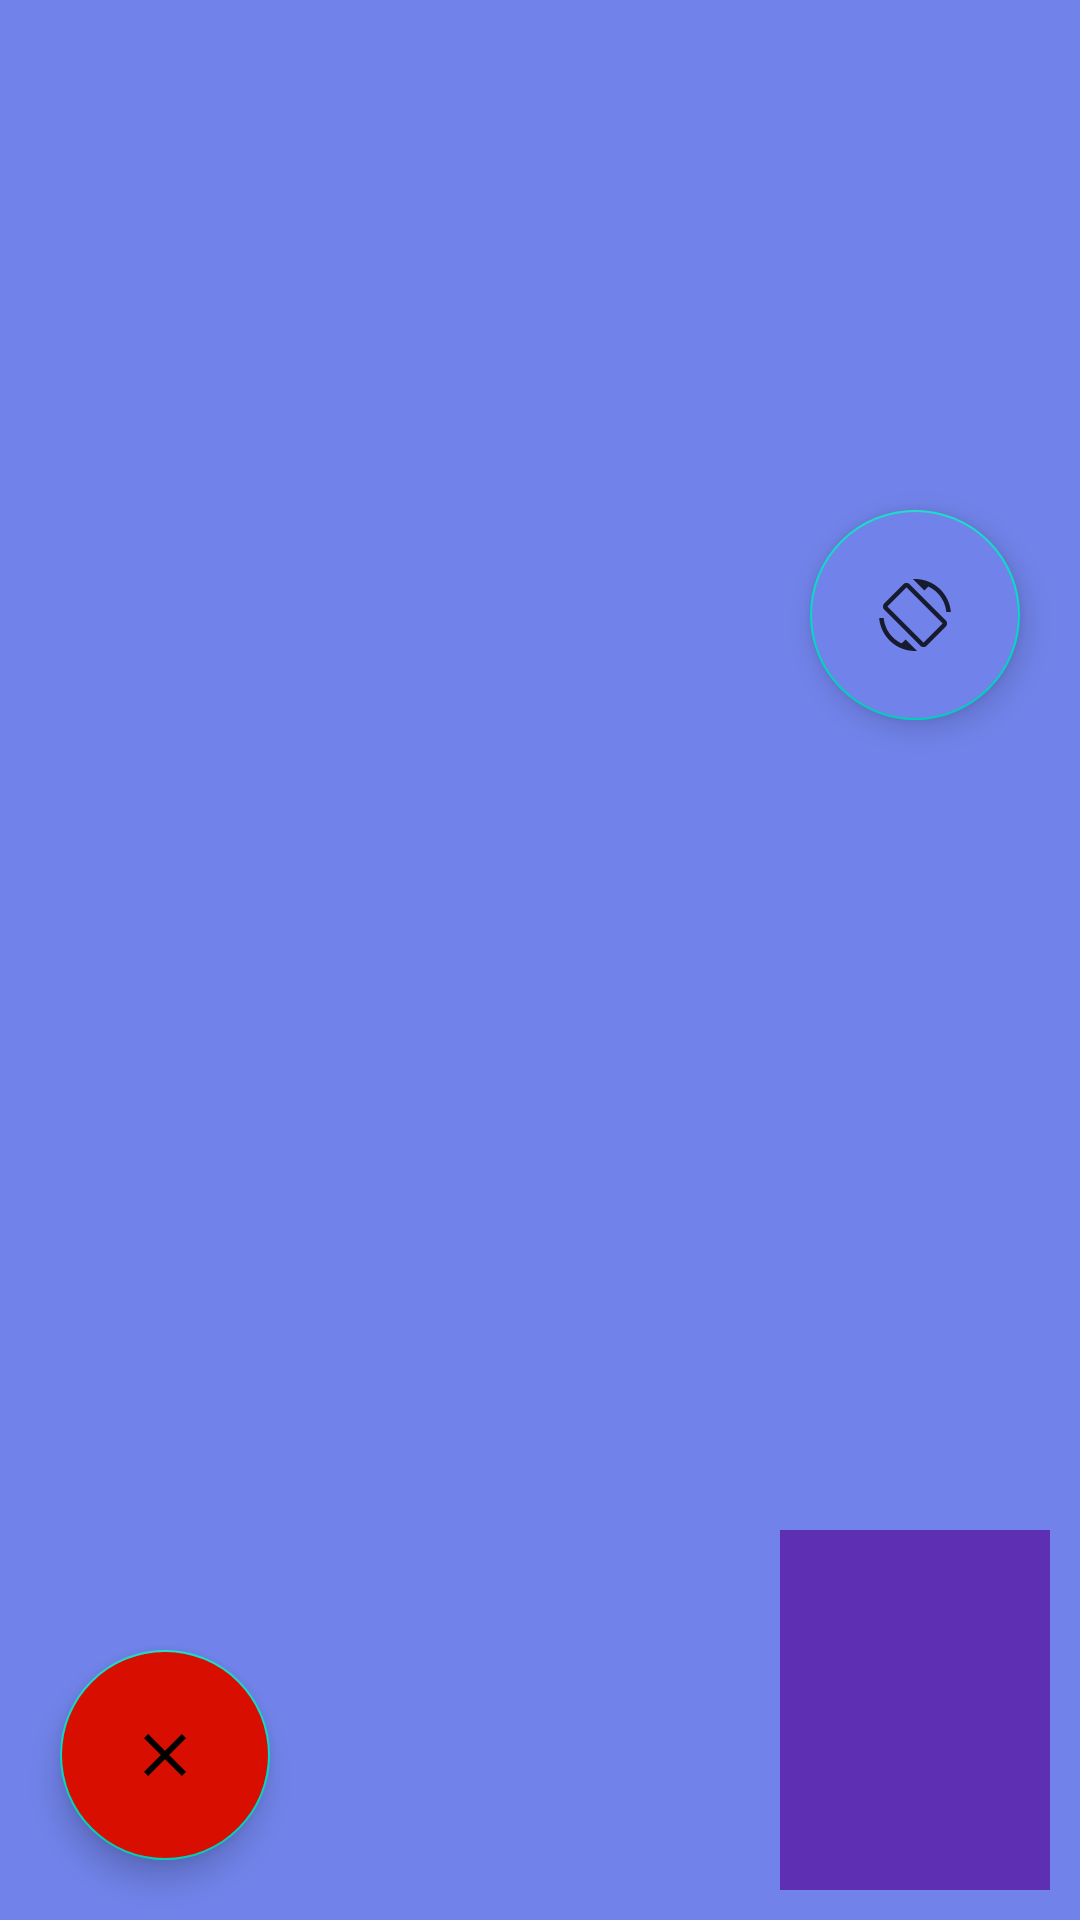

Icon click points for this 1080*1920 phone screenshot, format (x=x, y=y):
close: (x=165, y=1755)
rotate: (x=915, y=615)
